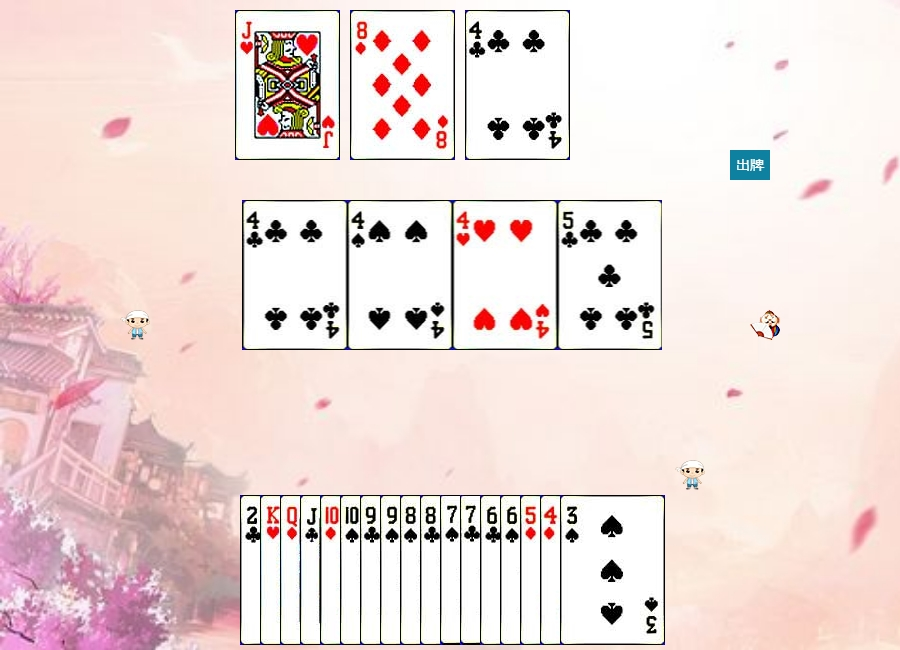10~1: (320, 495, 425, 645)
10~4: (340, 495, 445, 645)
11~2: (300, 495, 405, 645)
11~3: (235, 10, 340, 160)
12~1: (280, 495, 385, 645)
13~3: (260, 495, 365, 645)
15~2: (240, 495, 345, 645)
3~4: (560, 495, 665, 645)
4~1: (540, 495, 645, 645)
4~2: (465, 10, 570, 160), (243, 200, 348, 350)
4~3: (453, 200, 558, 350)
4~4: (348, 200, 453, 350)
5~1: (520, 495, 625, 645)
5~2: (558, 200, 663, 350)
6~2: (480, 495, 585, 645)
6~4: (500, 495, 605, 645)
7~2: (460, 495, 565, 645)
7~4: (440, 495, 545, 645)
8~1: (350, 10, 455, 160)
8~2: (420, 495, 525, 645)
8~4: (400, 495, 505, 645)
9~2: (360, 495, 465, 645)
9~4: (380, 495, 485, 645)
